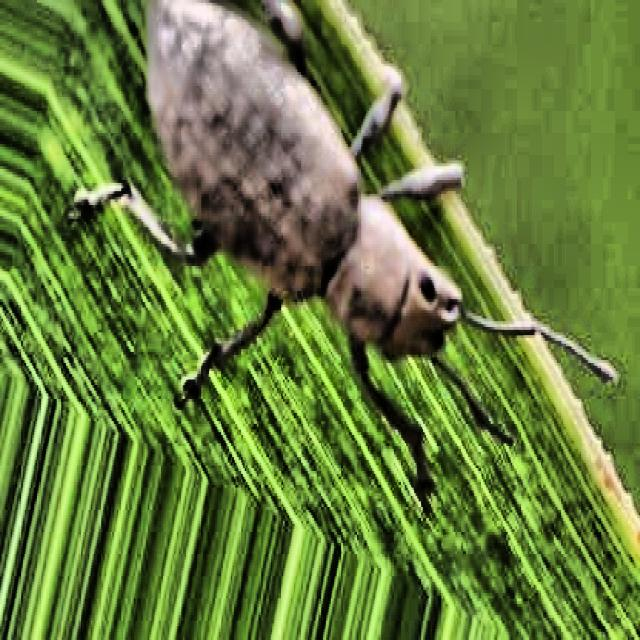Stink bug: (112, 0, 521, 435)
